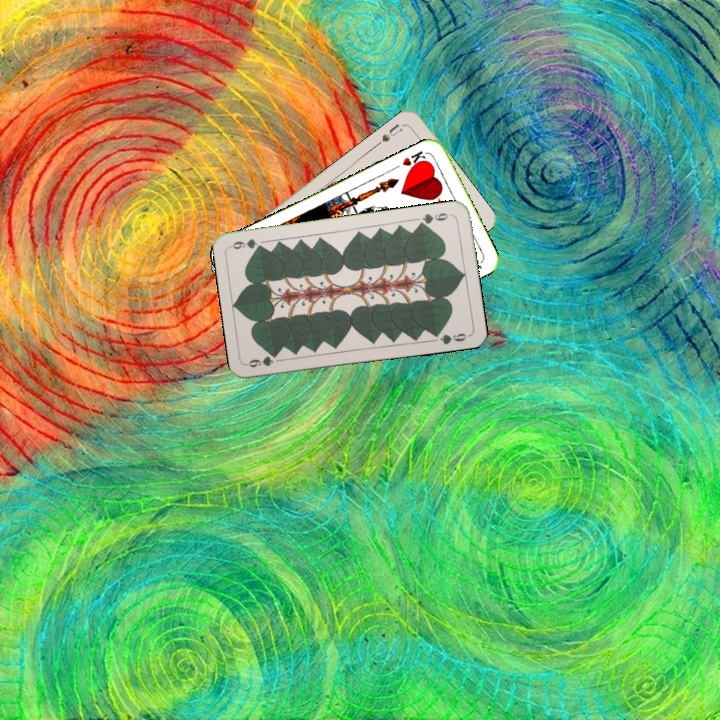G9: (415, 209, 454, 229), (243, 350, 280, 370)
HK: (398, 147, 430, 172)
SU: (372, 120, 405, 149)
